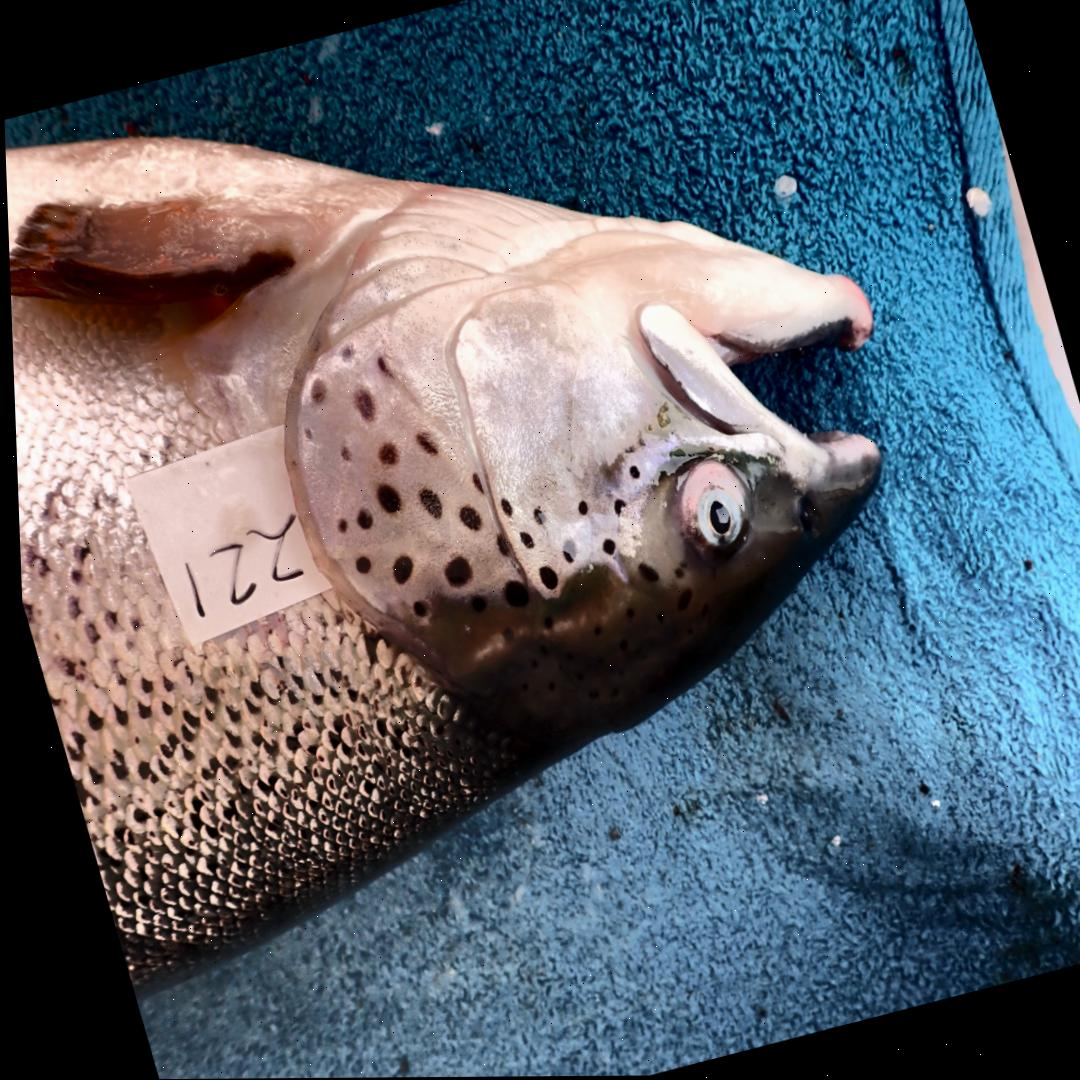spot: (438, 555, 467, 588), (349, 389, 372, 423), (371, 483, 396, 514), (414, 487, 437, 518), (386, 554, 408, 584), (498, 581, 523, 607), (411, 432, 434, 456), (454, 505, 476, 530), (373, 441, 394, 467), (532, 565, 553, 590), (306, 377, 323, 404), (351, 509, 368, 529), (556, 540, 571, 562), (349, 555, 366, 574), (597, 537, 612, 556), (335, 344, 350, 362), (406, 600, 420, 619), (465, 595, 480, 612), (491, 535, 503, 556), (372, 355, 385, 374), (514, 531, 528, 548), (466, 474, 478, 493), (527, 508, 540, 525), (495, 499, 507, 515), (332, 517, 343, 533), (609, 499, 620, 515), (336, 446, 346, 461), (624, 465, 634, 480), (573, 502, 583, 514), (300, 428, 308, 440)
